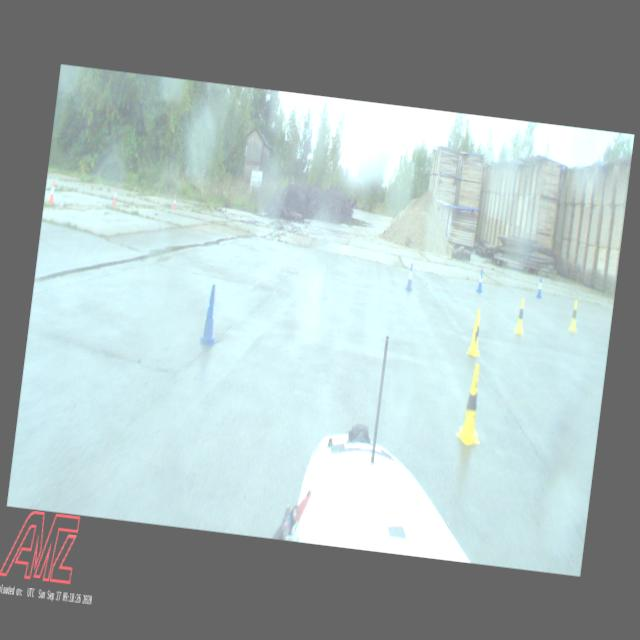blue_cone: (198, 284, 222, 348), (319, 262, 331, 302), (406, 262, 414, 292), (476, 268, 484, 292), (535, 276, 543, 298)
orange_cone: (48, 180, 56, 204), (111, 186, 118, 204), (172, 194, 177, 210)
yellow_cone: (454, 362, 488, 446), (466, 307, 486, 358), (514, 296, 527, 334), (568, 299, 580, 332)
